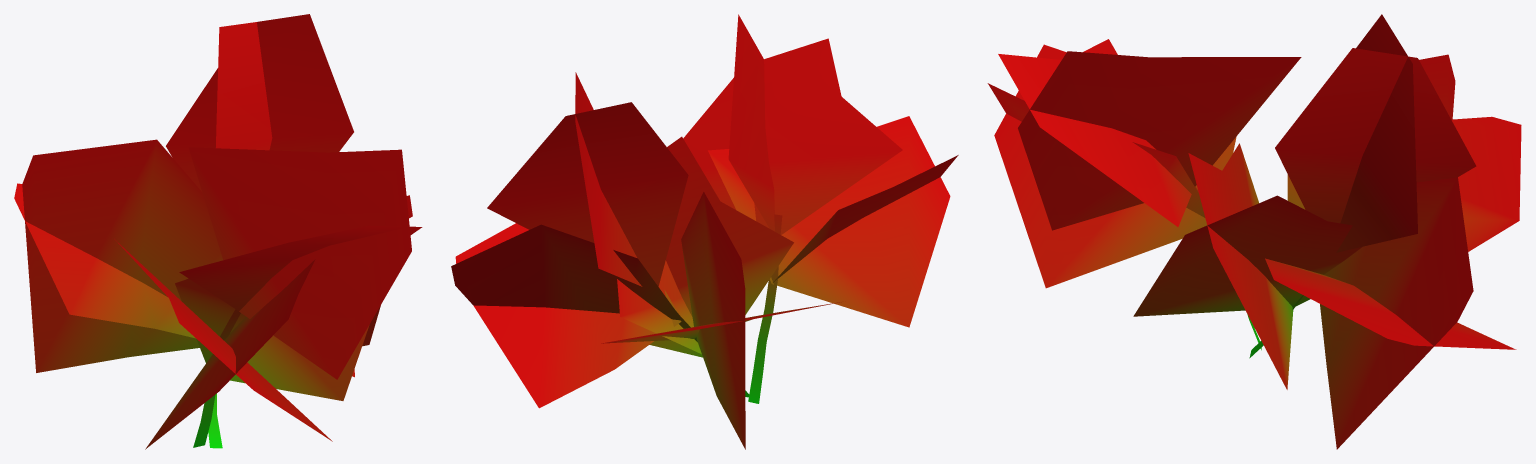
The model's file is European Spindle_LOD3_Var2.fbx.
The picture shows the model from 3 angles, left to right: view 1: azimuth 30°, elevation 25°; view 2: azimuth 150°, elevation 25°; view 3: azimuth 270°, elevation 25°; orthographic projection. The views are drawn at different scales.
Parts seen in each view (by area): view 1: _wwjb_Var2_LOD3; view 2: _wwjb_Var2_LOD3; view 3: _wwjb_Var2_LOD3.
Boxes of the visible parts, box(x1,y1,x2,y2) form: _wwjb_Var2_LOD3: box(14, 14, 422, 449); _wwjb_Var2_LOD3: box(451, 14, 958, 449); _wwjb_Var2_LOD3: box(987, 14, 1521, 449).
Bounding box in the file's own units: 26.65 × 23.65 × 29.89.
